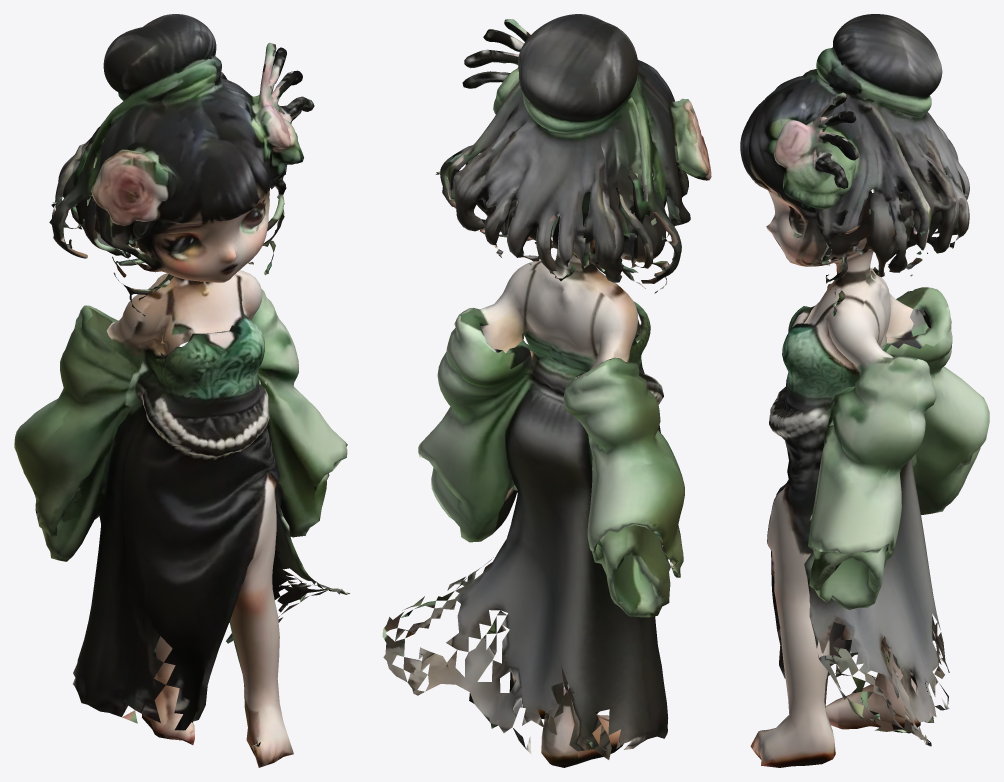
File: pyhpejpz.glb
The picture shows the model from 3 angles, left to right: view 1: azimuth 30°, elevation 25°; view 2: azimuth 150°, elevation 25°; view 3: azimuth 270°, elevation 25°; orthographic projection. The views are drawn at different scales.
Parts seen in each view (by area): view 1: Doll; view 2: Doll; view 3: Doll.
Boxes of the visible parts, x1,y1,x2,y2 form: Doll: [14, 14, 349, 767]; Doll: [382, 14, 711, 767]; Doll: [740, 14, 989, 767].
Size of the model in its own units: 0.1768 by 0.4 by 0.1262.
Materials: 1 (1 with a texture image).
